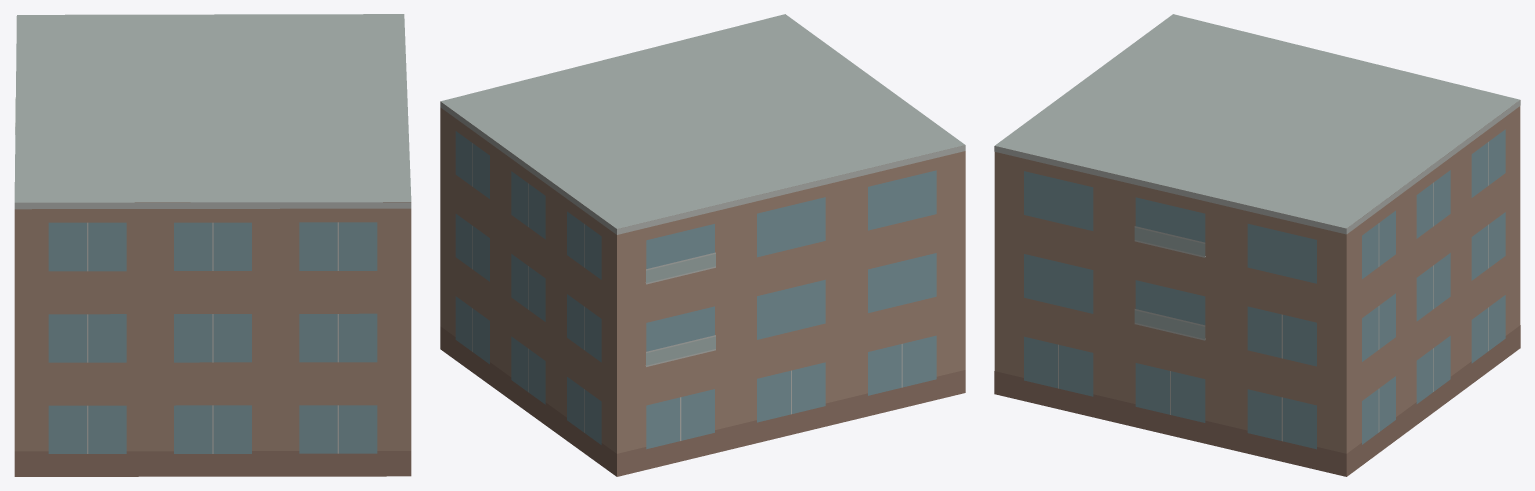
File: survey-upis-32834655.glb
The picture shows the model from 3 angles, left to right: view 1: azimuth 30°, elevation 25°; view 2: azimuth 150°, elevation 25°; view 3: azimuth 270°, elevation 25°; orthographic projection. The views are drawn at different scales.
Parts seen in each view (by area): view 1: survey-upis-32834655.tmp; view 2: survey-upis-32834655.tmp; view 3: survey-upis-32834655.tmp.
Part boxes in pixels (bbox=[...]): survey-upis-32834655.tmp: bbox=[14, 14, 411, 476]; survey-upis-32834655.tmp: bbox=[440, 14, 965, 476]; survey-upis-32834655.tmp: bbox=[994, 14, 1520, 476].
Size of the model in its own units: 18.91 by 10.2 by 19.59.
